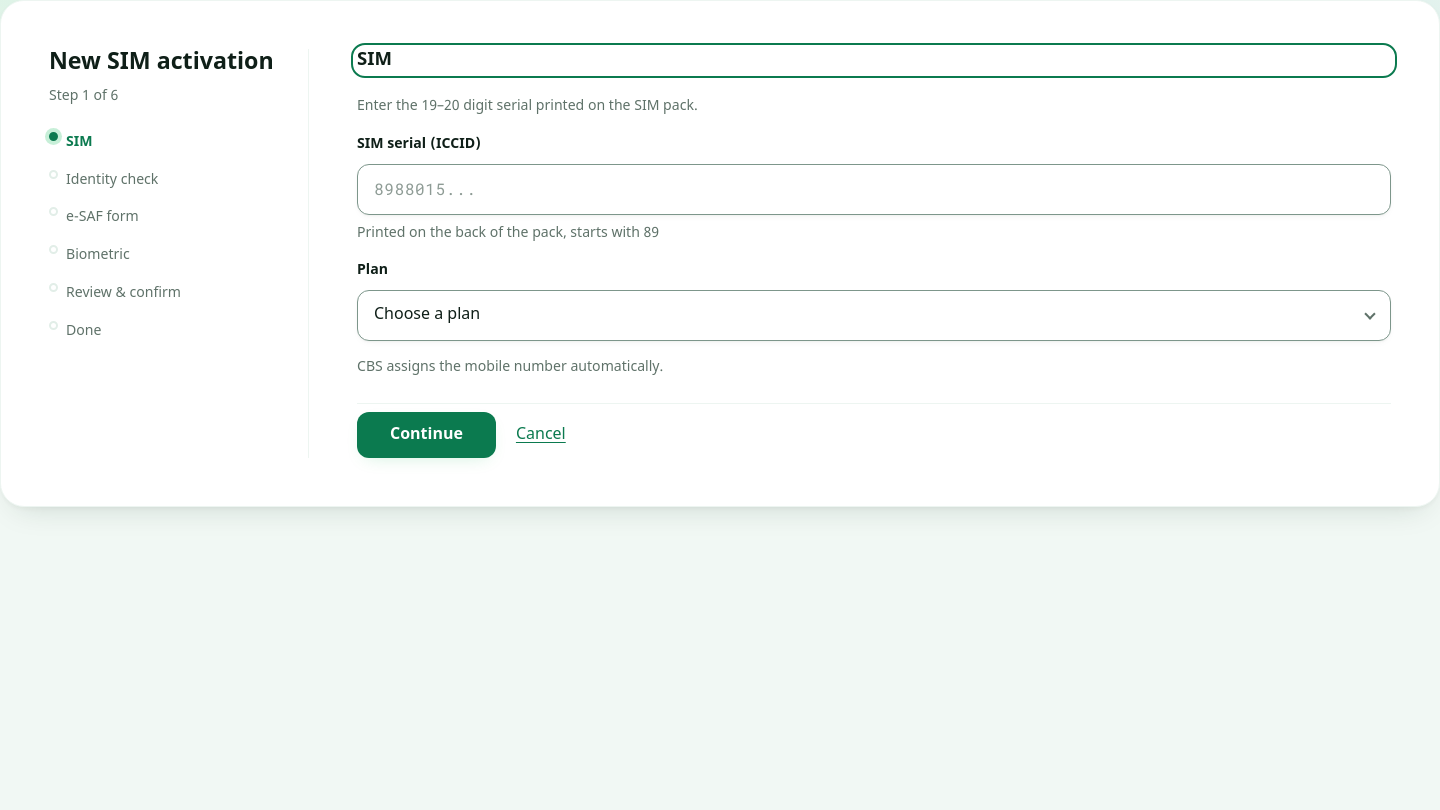
activation — leaving mid-flow › asks before discarding a half-entered customer
This screenshot has width=1440, height=810.
Type "8988015123456789012" into the field labelled "SIM serial (ICCID)" at (874, 189), box [358,165,1390,214]
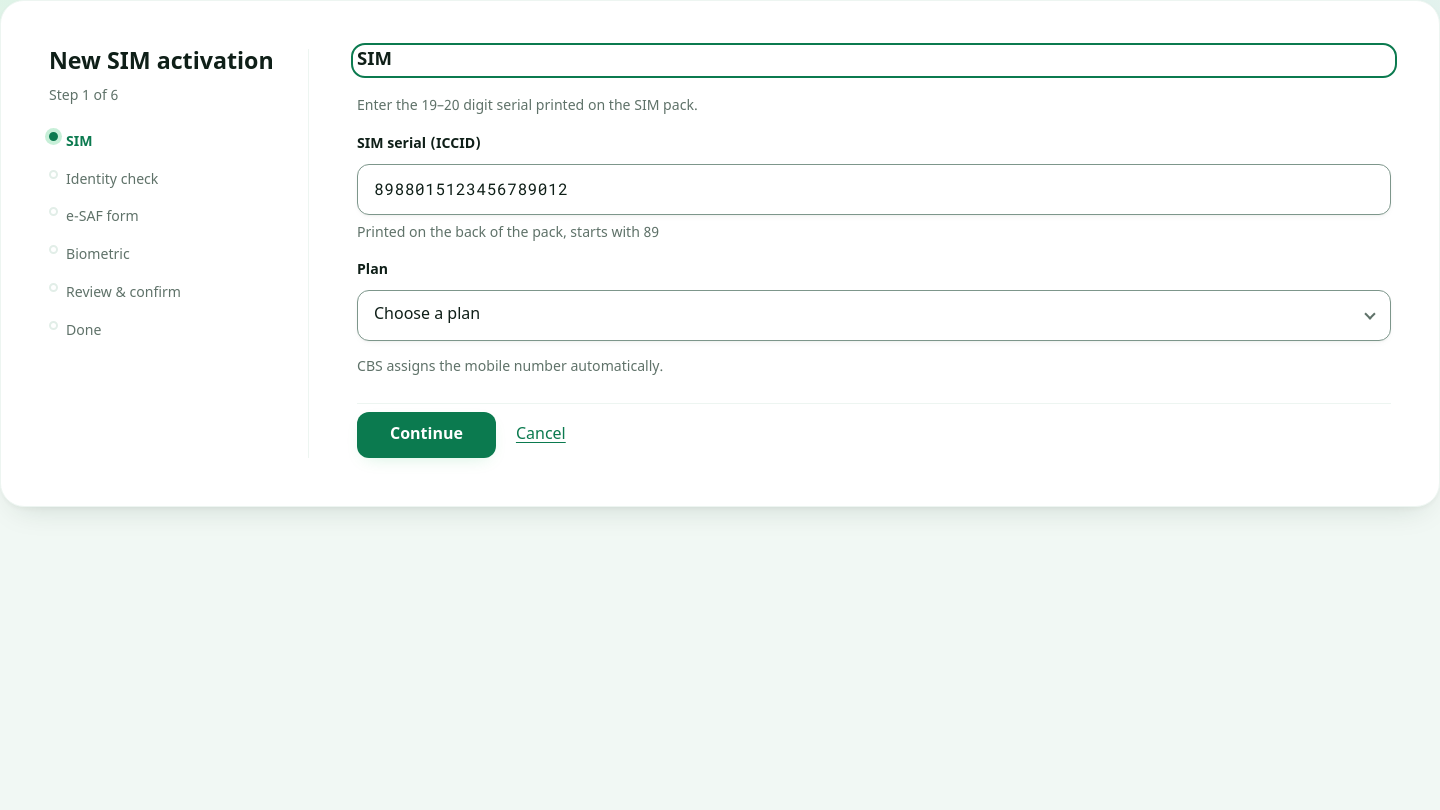
Click the button "Cancel" at (541, 435), box [508,417,574,453]
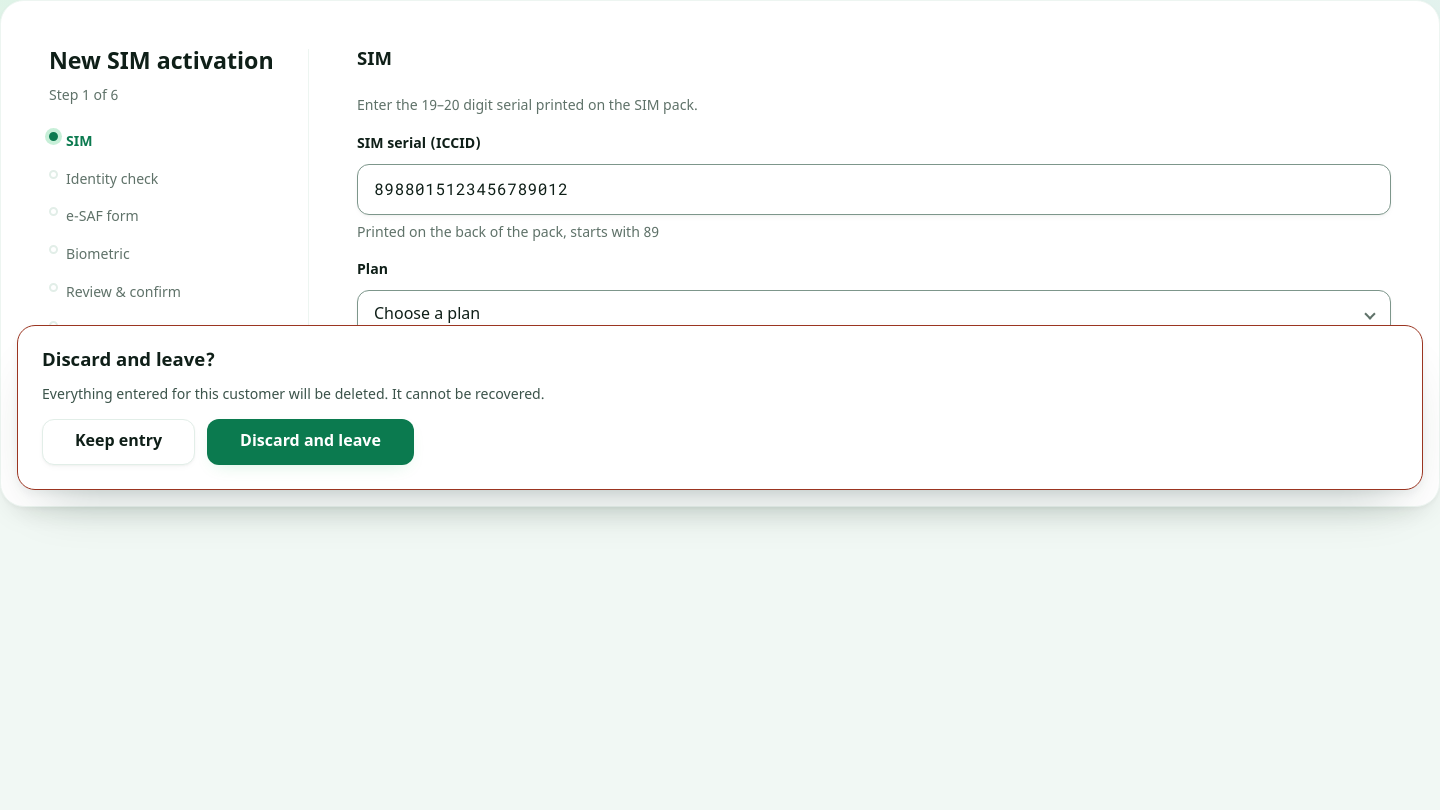
Check: the dialog shows "Discard and leave?", box [42,349,215,374]
